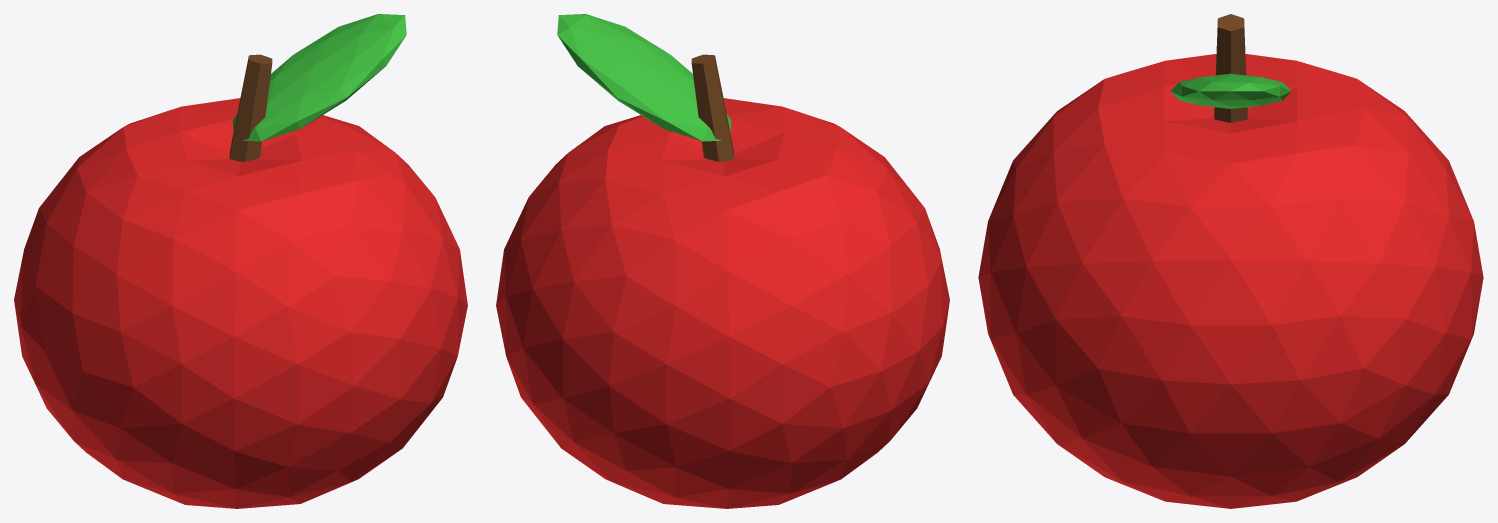
Rendered from Apple.glb.
3 views of the same model, side by side, from view 1: azimuth 30°, elevation 25°; view 2: azimuth 150°, elevation 25°; view 3: azimuth 270°, elevation 25° (orthographic). The views are drawn at different scales.
Parts seen in each view (by area): view 1: Apple_AppleBody, Apple_AppleLeaf, Apple_AppleStem; view 2: Apple_AppleBody, Apple_AppleLeaf, Apple_AppleStem; view 3: Apple_AppleBody, Apple_AppleLeaf, Apple_AppleStem.
Boxes of the visible parts, left/top/right/bottom form: Apple_AppleBody: left=14, top=98, right=467, bottom=508; Apple_AppleLeaf: left=232, top=14, right=406, bottom=141; Apple_AppleStem: left=229, top=54, right=272, bottom=161; Apple_AppleBody: left=496, top=98, right=949, bottom=508; Apple_AppleLeaf: left=557, top=14, right=731, bottom=141; Apple_AppleStem: left=691, top=54, right=734, bottom=161; Apple_AppleBody: left=978, top=54, right=1483, bottom=508; Apple_AppleLeaf: left=1170, top=73, right=1291, bottom=108; Apple_AppleStem: left=1214, top=14, right=1247, bottom=122.
Bounding box in the file's own units: 1 × 1.01 × 1.
